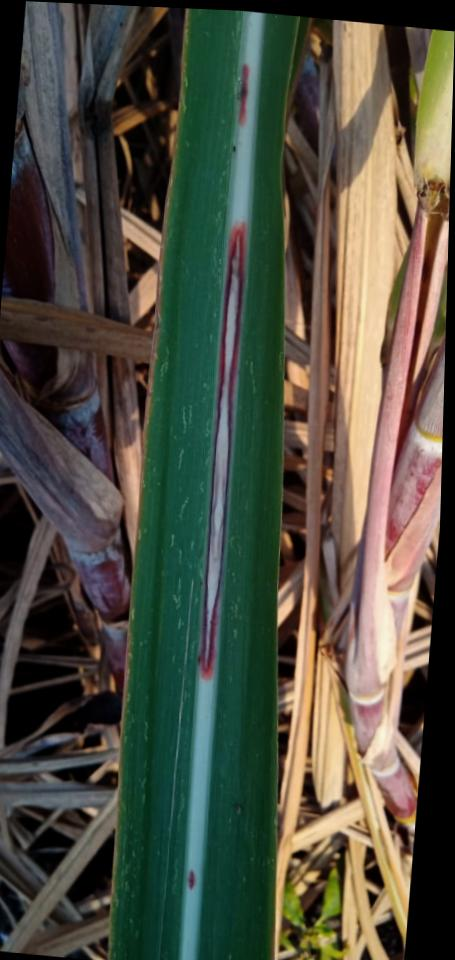RedRot: (197, 224, 244, 683), (236, 63, 248, 128), (187, 869, 194, 891)
